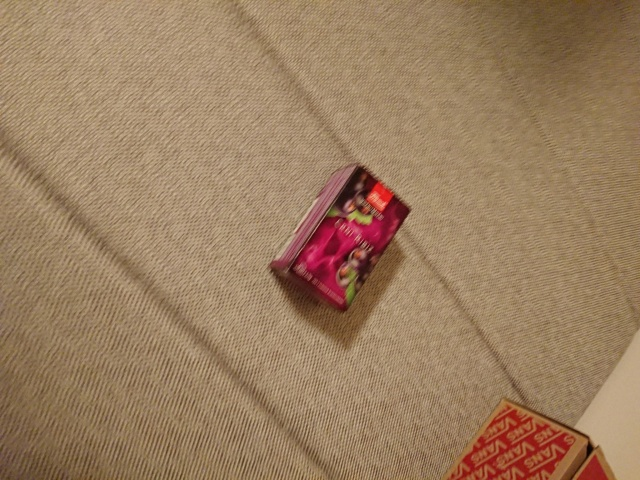Franck Black Currant Tea 60g: (267, 160, 415, 316)
